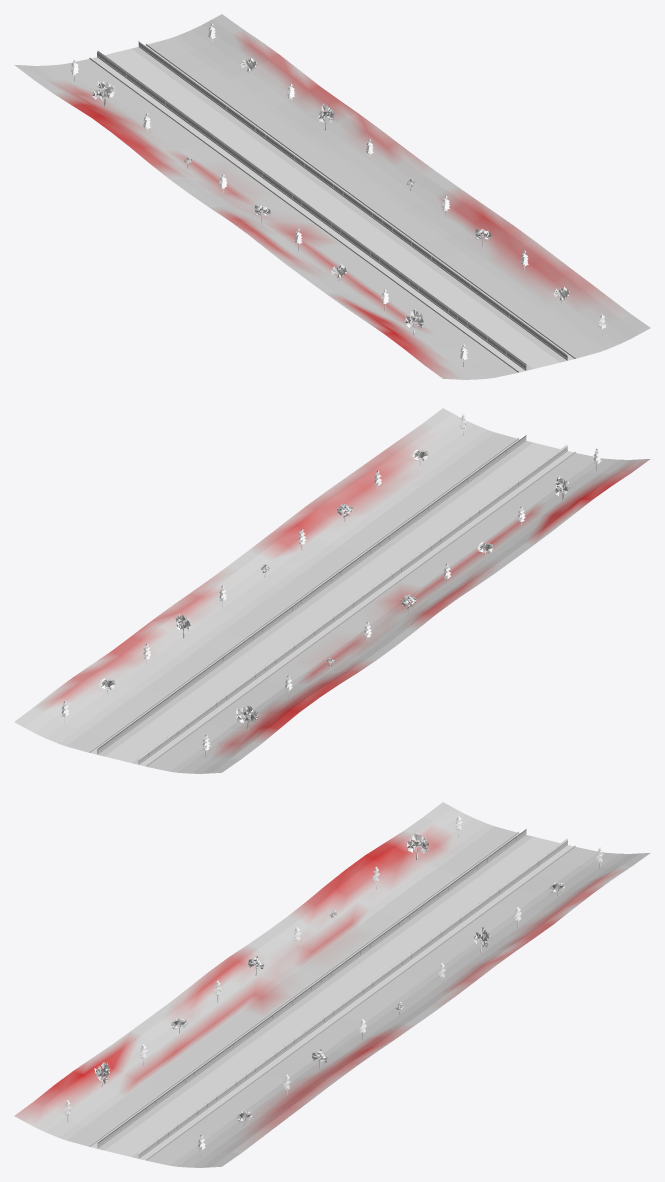
3 views of the same model, one above another, from view 1: azimuth 30°, elevation 25°; view 2: azimuth 150°, elevation 25°; view 3: azimuth 330°, elevation 25° (orthographic).
Visible parts, largest first — view 1: Grass, Road, Track, Wirefence, Trees; view 2: Grass, Road, Track, Wirefence, Trees; view 3: Grass, Road, Track, Wirefence, Trees.
Part boxes in pixels (x1,y1,x2,y2): Grass: (14, 14, 650, 379); Road: (105, 48, 559, 368); Track: (89, 42, 575, 372); Wirefence: (97, 41, 567, 369); Trees: (70, 23, 606, 366); Grass: (14, 408, 650, 773); Road: (105, 442, 559, 762); Track: (89, 437, 575, 766); Wirefence: (97, 435, 567, 763); Trees: (61, 413, 600, 756); Grass: (14, 802, 650, 1167); Road: (105, 836, 559, 1156); Track: (89, 830, 575, 1160); Wirefence: (97, 829, 567, 1157); Trees: (64, 816, 603, 1157).
Size of what is drawn, in the model's own units: 14000 by 1950 by 50000.
